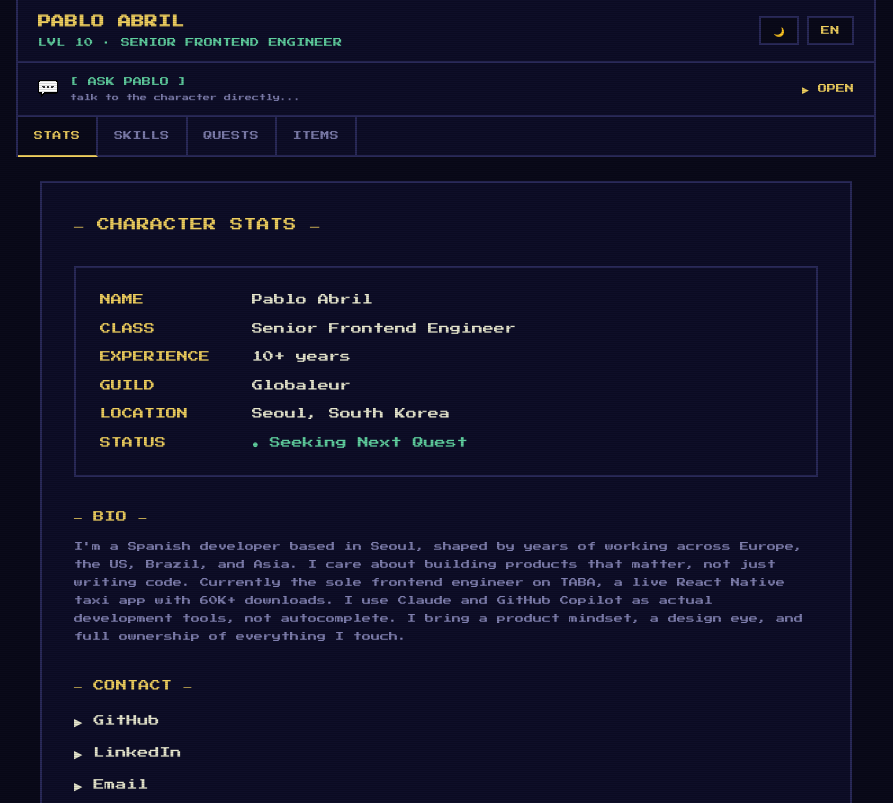
Test: PortfolioScreen tab navigation › switches to ITEMS section when ITEMS tab is clicked
Click the button "ITEMS".
click(317, 136)  # box [277, 117, 357, 154]
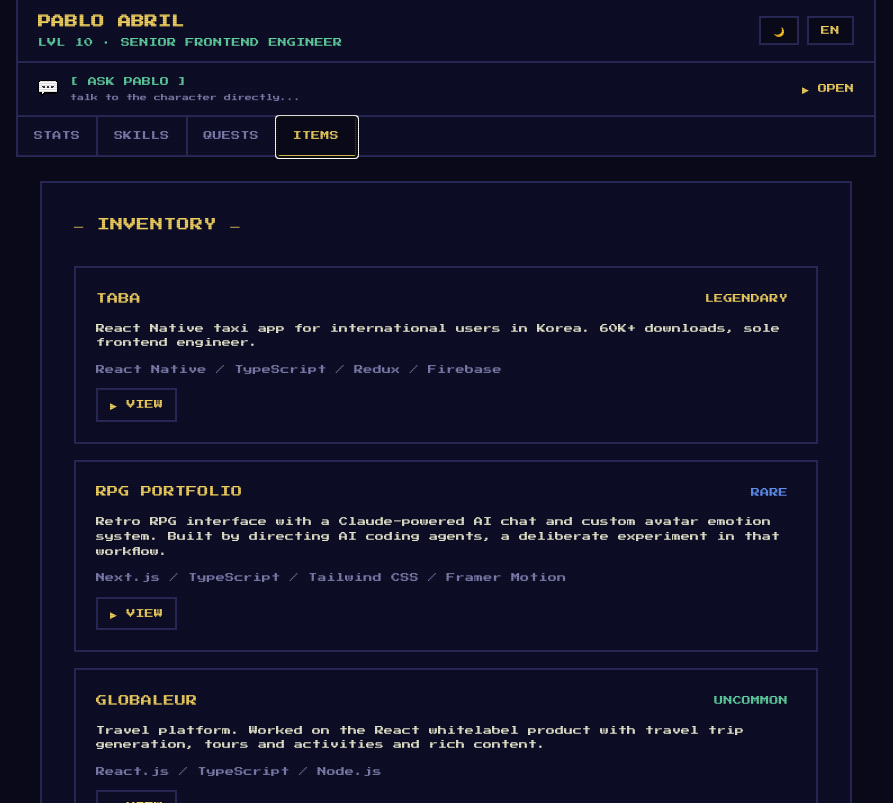
Check: the heading "─ INVENTORY ─" is shown, box [74, 218, 240, 230]
